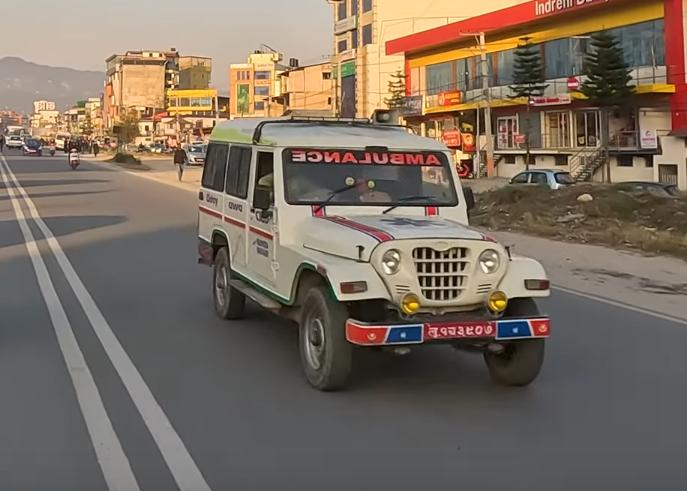ambulance: (192, 104, 561, 400)
